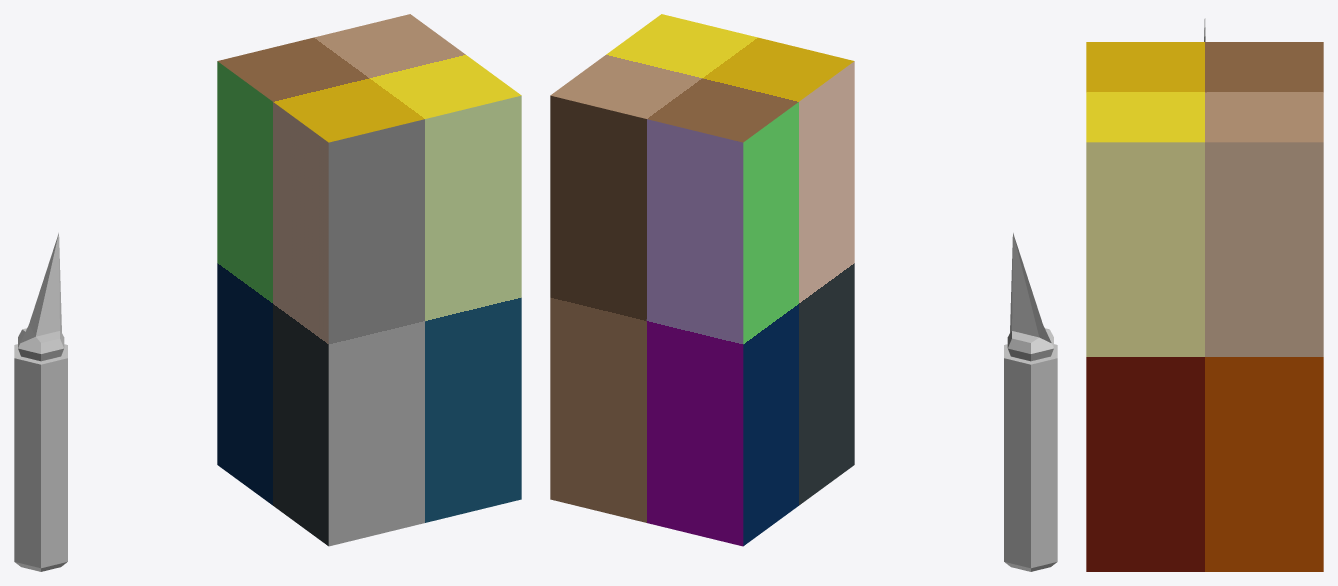
The model's file is diy_objects.glb.
3 renders of one model, left to right at view 1: azimuth 30°, elevation 25°; view 2: azimuth 150°, elevation 25°; view 3: azimuth 270°, elevation 25°, orthographic. The views are drawn at different scales.
Visible parts, largest first — view 1: Banana, Hobby Knife; view 2: Banana, Hobby Knife; view 3: Banana.
Part boxes in pixels (left/top/right/bottom): Banana: left=217, top=14, right=521, bottom=546; Hobby Knife: left=14, top=233, right=67, bottom=571; Banana: left=550, top=14, right=854, bottom=546; Hobby Knife: left=1004, top=233, right=1057, bottom=571; Banana: left=1086, top=42, right=1323, bottom=571.
Bounding box in the file's own units: 4.68 × 4 × 2.
1 material, 1 textured.
